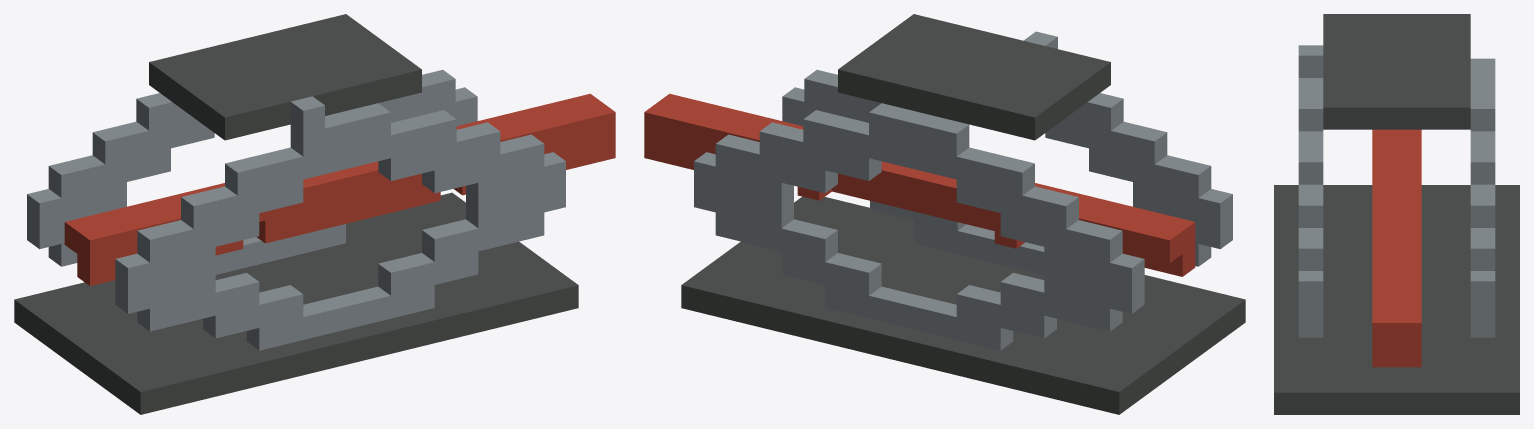
The model's file is scissor_jack.glb.
The picture shows the model from 3 angles, left to right: view 1: azimuth 30°, elevation 25°; view 2: azimuth 150°, elevation 25°; view 3: azimuth 270°, elevation 25°; orthographic projection. The views are drawn at different scales.
Visible parts, largest first — view 1: jack:scissorJack; view 2: jack:scissorJack; view 3: jack:scissorJack.
Boxes of the visible parts, x1=… form: jack:scissorJack: x1=14, y1=14, x2=615, y2=414; jack:scissorJack: x1=644, y1=14, x2=1245, y2=414; jack:scissorJack: x1=1274, y1=14, x2=1519, y2=414.
Bounding box in the file's own units: 0.24 × 0.11 × 0.1.
